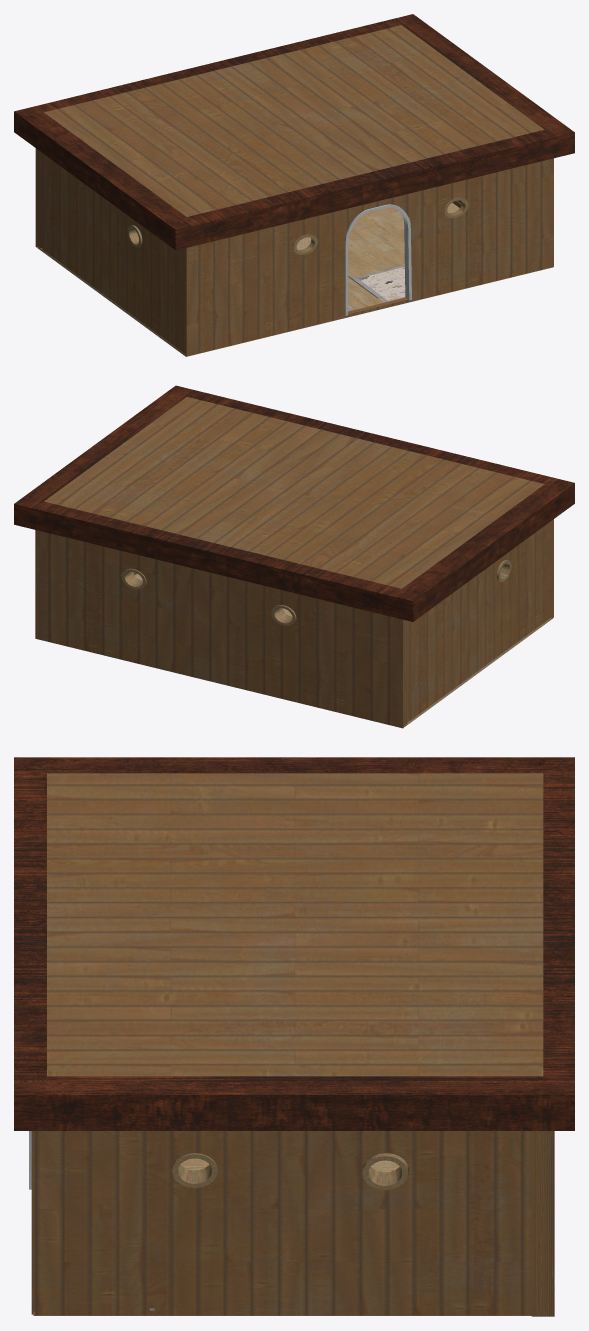
The model's file is lounge2.obj.
3 renders of one model, top to bottom at view 1: azimuth 30°, elevation 25°; view 2: azimuth 150°, elevation 25°; view 3: azimuth 270°, elevation 25°, orthographic. The views are drawn at different scales.
Visible parts, largest first — view 1: lounge_polySurface6polySurface192; view 2: lounge_polySurface6polySurface192; view 3: lounge_polySurface6polySurface192.
Part boxes in pixels (bbox=[...]): lounge_polySurface6polySurface192: bbox=[14, 14, 574, 356]; lounge_polySurface6polySurface192: bbox=[14, 385, 574, 728]; lounge_polySurface6polySurface192: bbox=[14, 757, 574, 1316].
Size of the model in its own units: 8.51 by 2.79 by 5.98.
Materials: 16 (15 with a texture image).
